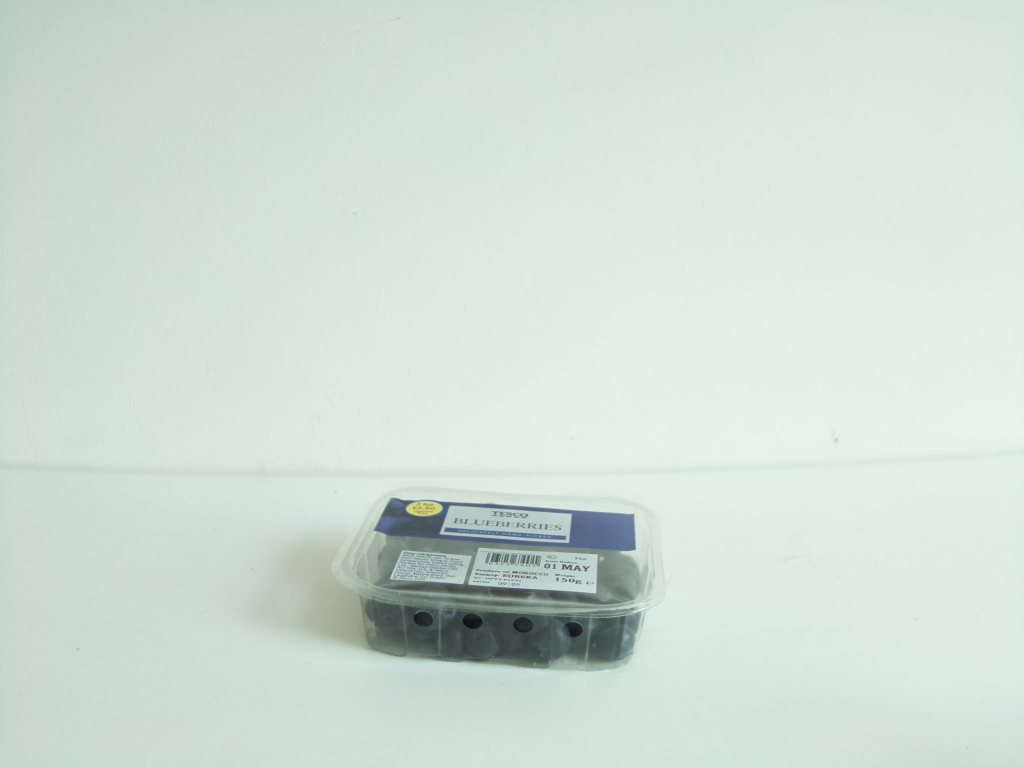soft-fruit: (333, 484, 654, 675)
